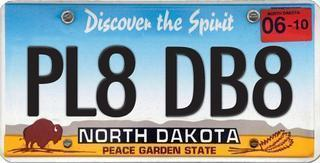placa de veiculo: (6, 2, 320, 160)
